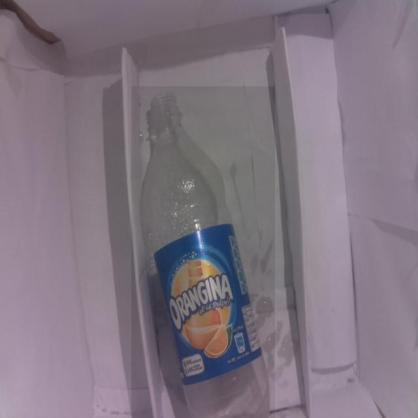bottle: (131, 86, 275, 418)
label: (152, 245, 260, 368)
